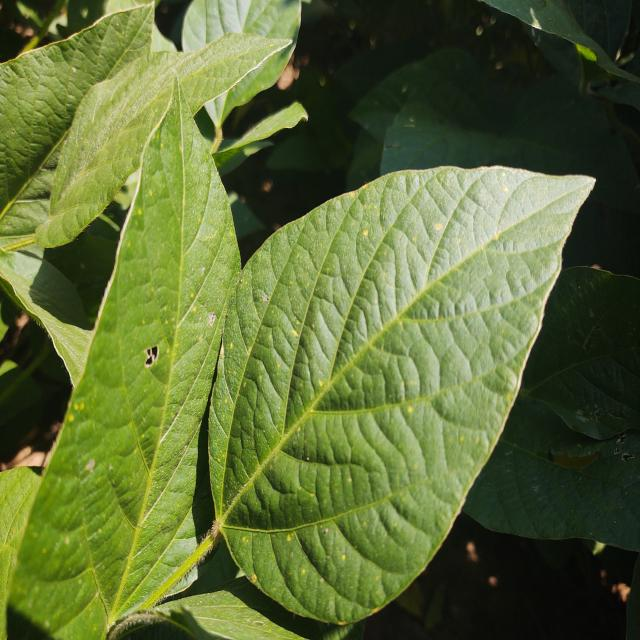Soybean: (0, 0, 640, 640)
downey_mildew: (312, 264, 430, 424), (421, 262, 532, 420), (140, 362, 214, 522), (3, 3, 154, 79), (92, 150, 142, 352), (118, 529, 218, 622), (8, 28, 56, 221), (76, 462, 141, 600), (522, 360, 640, 436), (554, 278, 640, 375), (13, 254, 92, 355), (242, 300, 298, 428), (216, 443, 287, 531), (187, 1, 292, 60), (199, 41, 287, 106), (495, 432, 616, 474), (418, 298, 535, 334), (172, 72, 189, 277), (193, 148, 227, 246), (380, 108, 437, 166), (191, 294, 227, 352), (207, 123, 224, 155)
